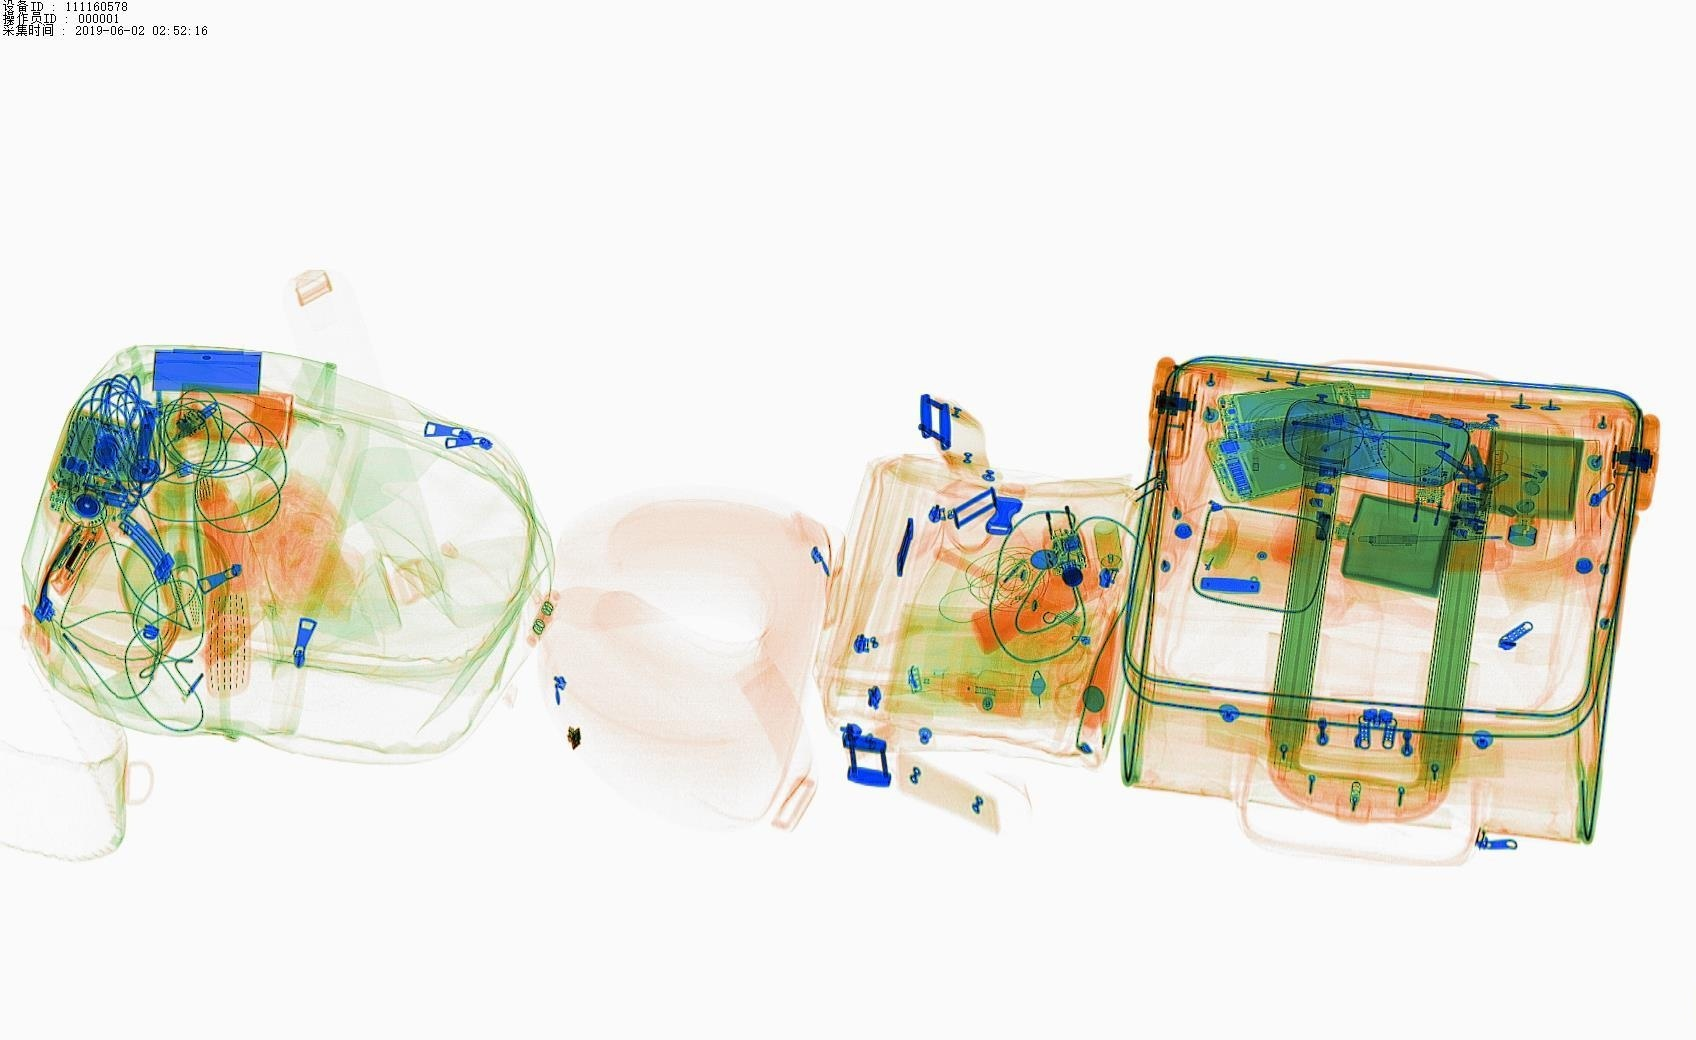NonmetallicFire: (1469, 440, 1562, 499)
